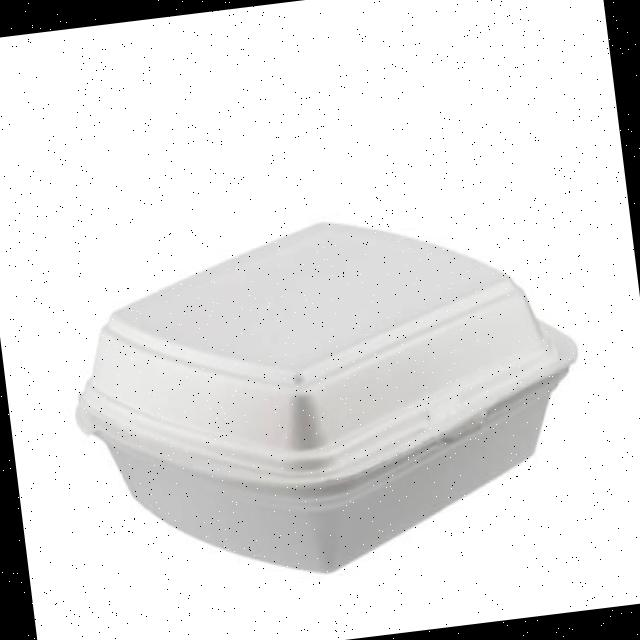styrofoam: (53, 186, 601, 602)
